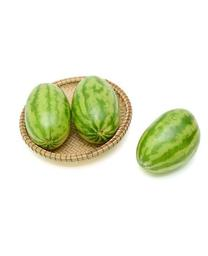watermelon: (137, 106, 200, 178), (72, 76, 121, 145), (26, 80, 69, 149)
